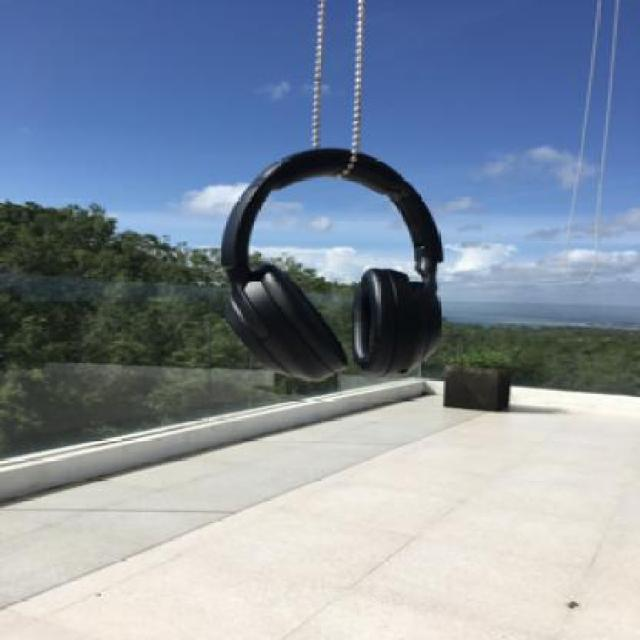earphone: (175, 69, 458, 404)
